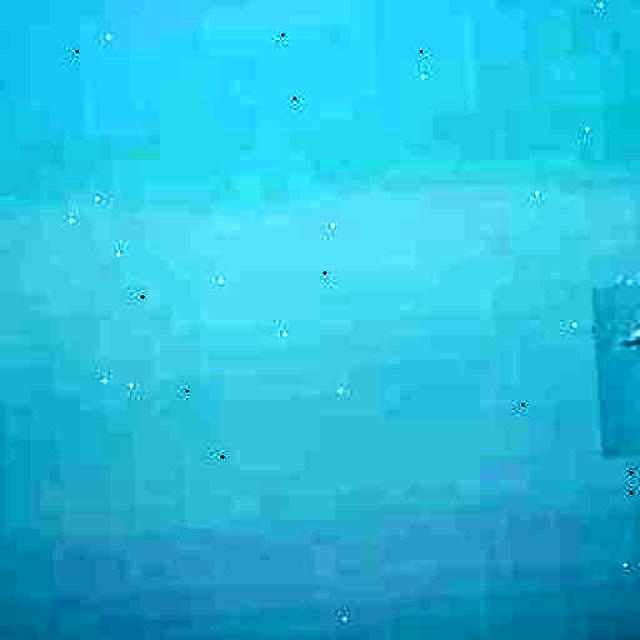airplane: (589, 276, 640, 456)
